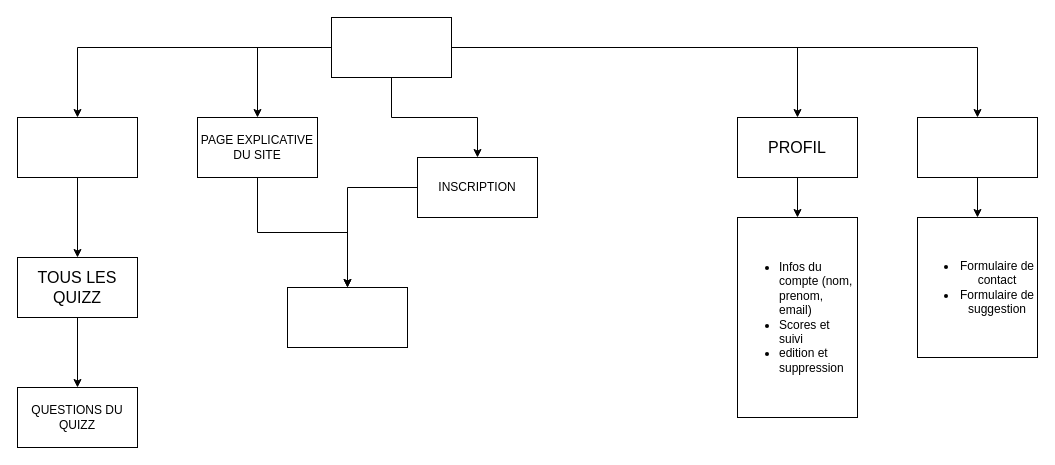
Some shapes in this 1055 by 465 pixel diagram are drawn without their labels. The shapes that lost their labels are listed below. From the top down, each one's centre as x and y in pixels, then its label:
(391,47): HOME
(77,147): CATEGORIES
(977,147): CONTACT
(347,317): CONNEXION
